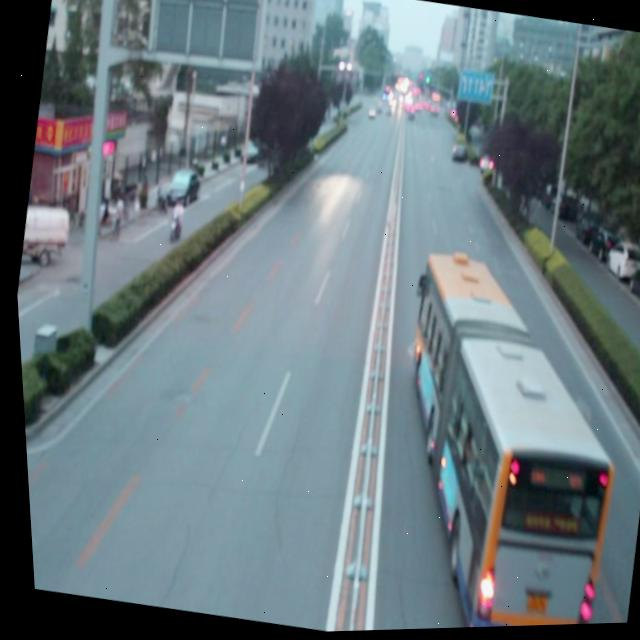van: (356, 249, 635, 632)
